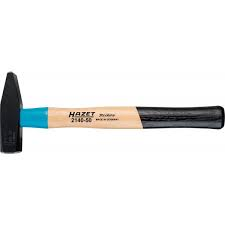hammer: (1, 70, 225, 154)
